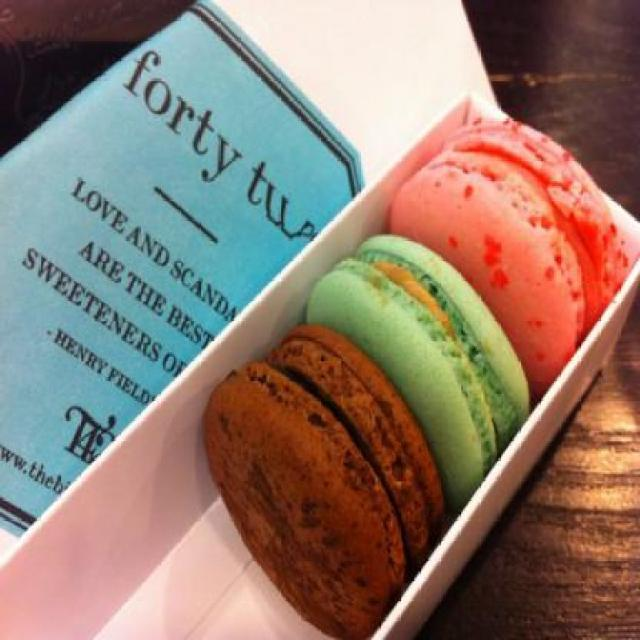Macaron: (206, 111, 629, 624)
